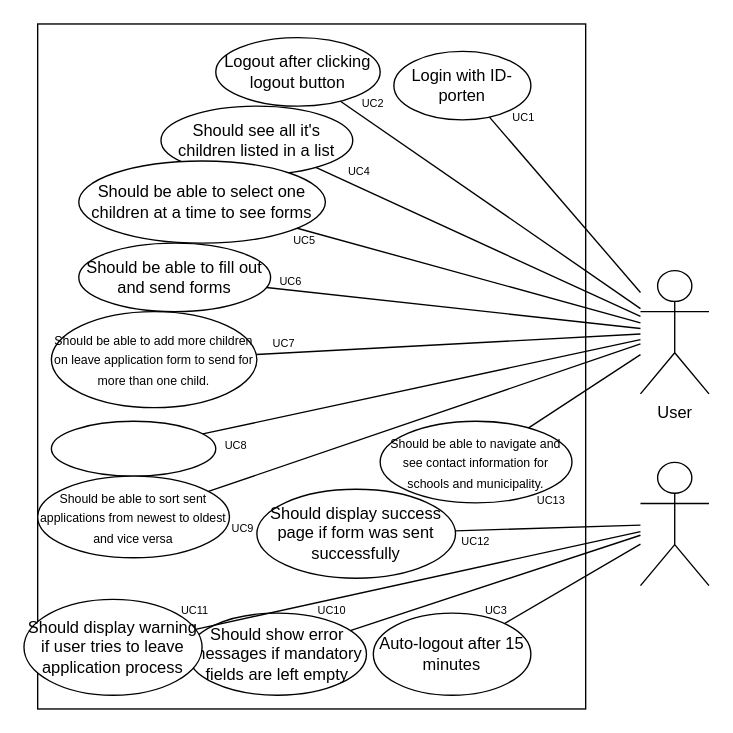
This 733x733 diagram has some shape labels left out. Each missing label, with the centre of its shape:
Should be able to see sent applications: [133,448]
System: [674,523]
